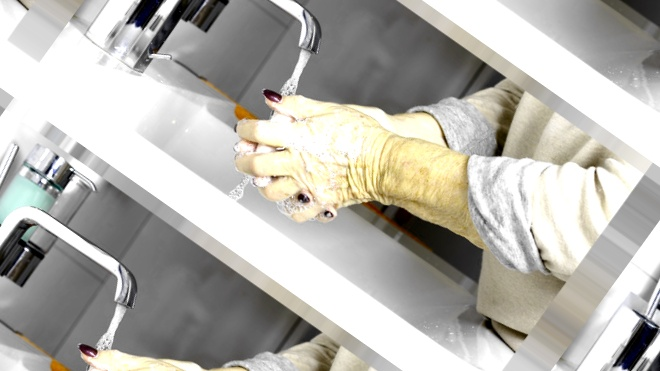washing hand: (145, 0, 451, 258)
